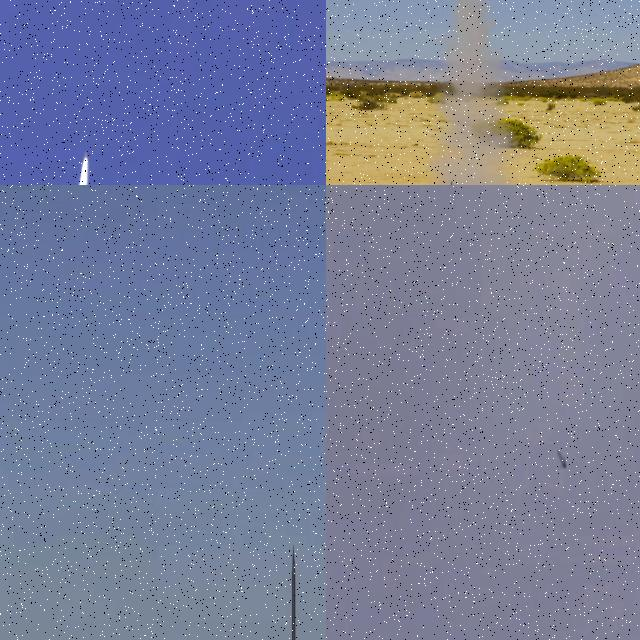Rocket: (289, 549, 298, 640), (557, 449, 567, 470), (84, 149, 88, 159)
